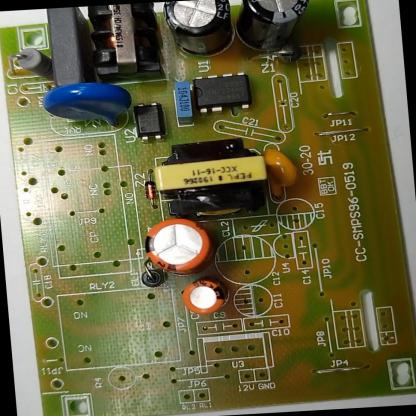Cap1: (142, 215, 215, 278)
Cap2: (180, 279, 227, 315)
Cap3: (160, 0, 238, 62)
Cap4: (234, 0, 315, 55)
MOSFET: (192, 70, 254, 114)
Mov: (39, 79, 136, 135)
Resistor: (14, 46, 53, 80)
Transformer: (153, 136, 271, 216), (84, 3, 166, 83)
